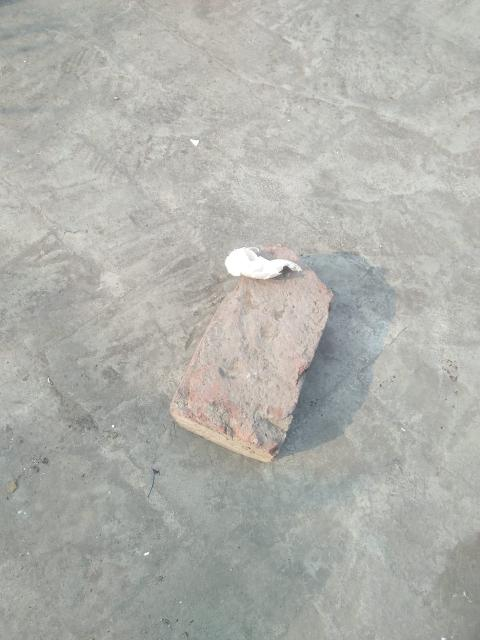Roto: (226, 243, 301, 281)
